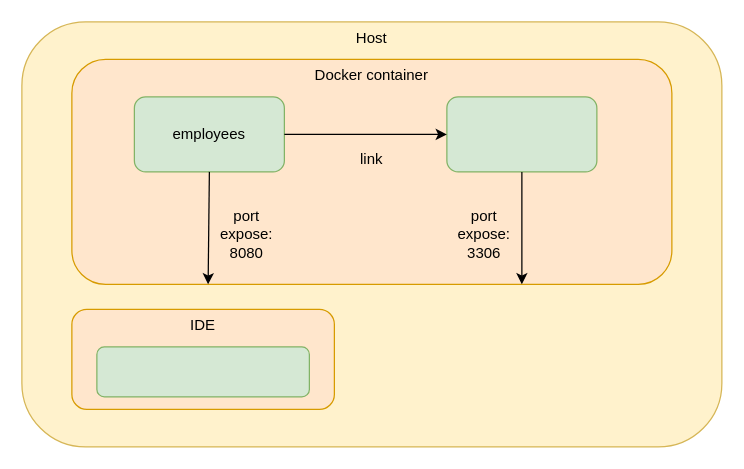
Some shapes in this 744 by 469 pixel diagram are drawn without their labels. The shapes that lost their labels are listed below. From the top down, each one's centre as x and y in pixels, then its label:
point (521, 134): employees-mysql
point (202, 371): Maven
